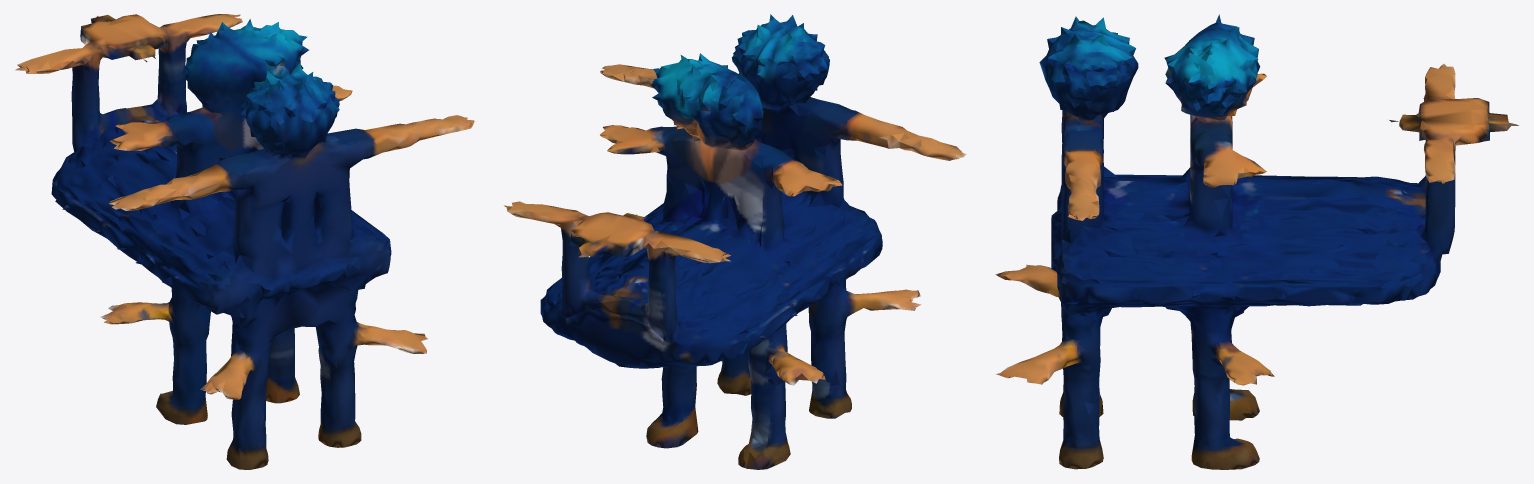
File: rizer.glb
3 views of the same model, side by side, from view 1: azimuth 30°, elevation 25°; view 2: azimuth 150°, elevation 25°; view 3: azimuth 270°, elevation 25° (orthographic). The views are drawn at different scales.
Visible parts, largest first — view 1: Rizer; view 2: Rizer; view 3: Rizer.
Boxes of the visible parts, bbox=[...] form: Rizer: bbox=[15, 14, 474, 469]; Rizer: bbox=[504, 14, 966, 469]; Rizer: bbox=[995, 14, 1518, 469].
Size of the model in its own units: 1.3 by 1.3 by 1.5.
Materials: 1 (1 with a texture image).
